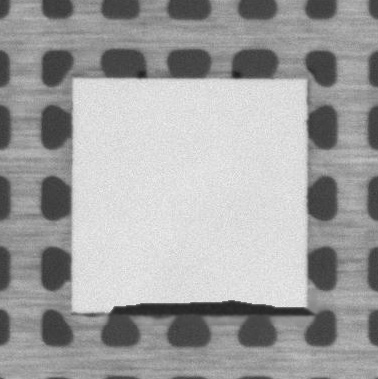DIE_BROKEN: (103, 294, 316, 319)
